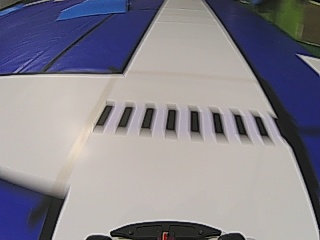CrossWalk: (94, 103, 270, 139)
